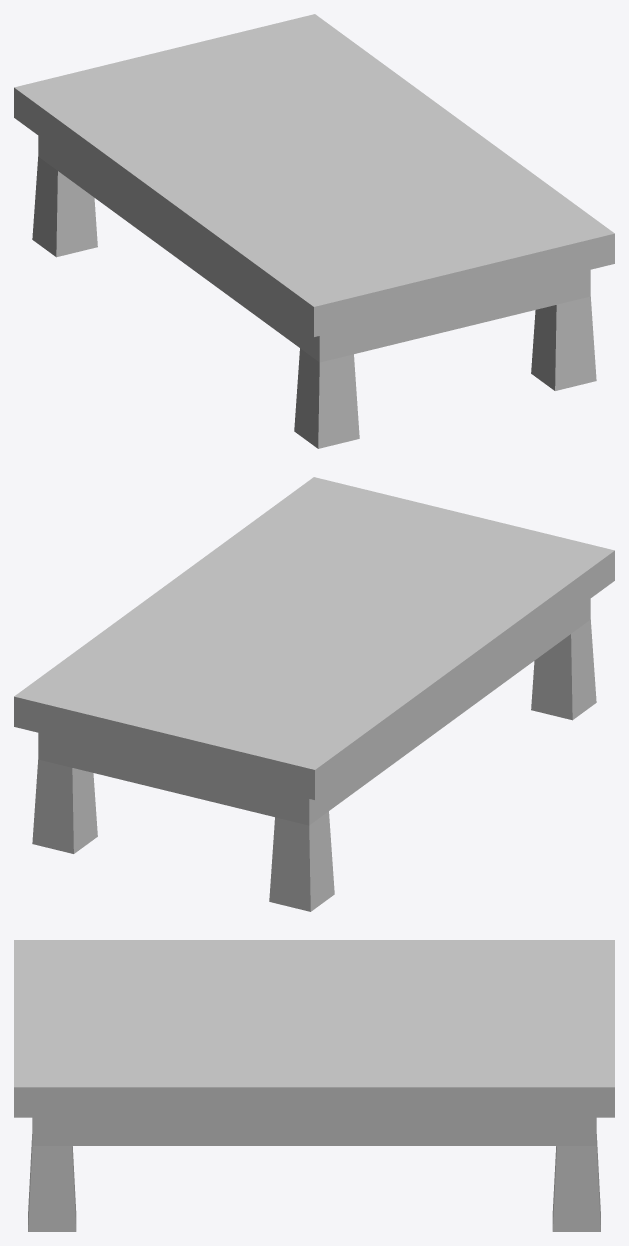
File: CoffeeTable.glb
3 renders of one model, top to bottom at view 1: azimuth 30°, elevation 25°; view 2: azimuth 150°, elevation 25°; view 3: azimuth 270°, elevation 25°, orthographic.
Visible parts, largest first — view 1: CoffeeTable; view 2: CoffeeTable; view 3: CoffeeTable.
Part boxes in pixels (<box>): CoffeeTable: <box>14,14,614,448</box>; CoffeeTable: <box>14,477,614,911</box>; CoffeeTable: <box>14,940,614,1231</box>.
Bounding box in the file's own units: 0.5889 × 0.2802 × 1.02.
2 materials, 2 textured.
